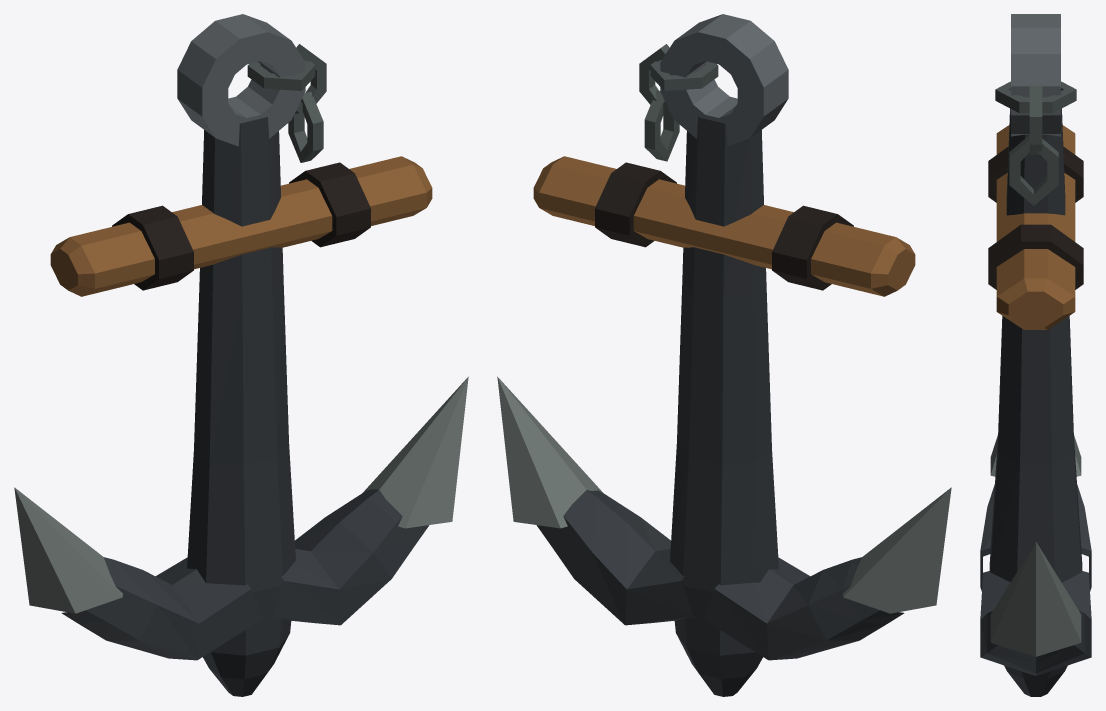
Rendered from ship-anchor-c2b4f1.glb.
3 views of the same model, side by side, from view 1: azimuth 30°, elevation 25°; view 2: azimuth 150°, elevation 25°; view 3: azimuth 270°, elevation 25° (orthographic).
Parts seen in each view (by area): view 1: anchor-body, chain-links; view 2: anchor-body, chain-links; view 3: anchor-body, chain-links.
Boxes of the visible parts, x1,y1,x2,y2 form: anchor-body: [14, 14, 468, 696]; chain-links: [288, 44, 326, 162]; anchor-body: [497, 14, 951, 696]; chain-links: [639, 44, 679, 161]; anchor-body: [980, 14, 1091, 696]; chain-links: [1009, 85, 1058, 205].
Bounding box in the file's own units: 1.28 × 1.79 × 0.27.
